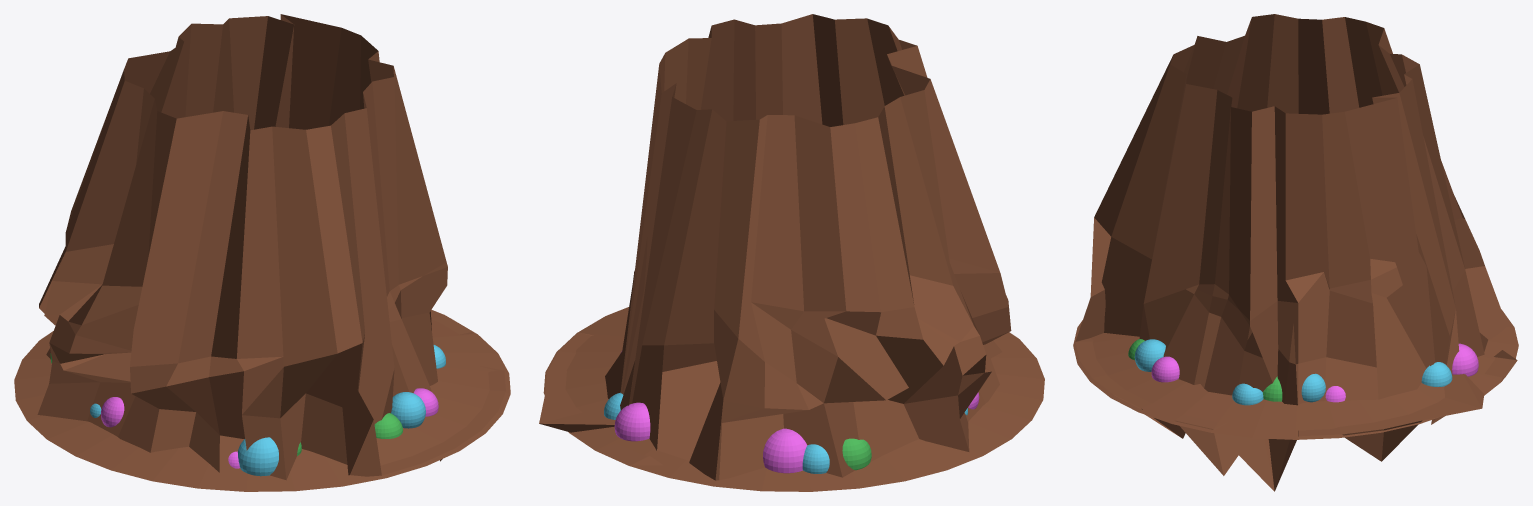
File: arena.fbx
3 renders of one model, left to right at view 1: azimuth 30°, elevation 25°; view 2: azimuth 150°, elevation 25°; view 3: azimuth 270°, elevation 25°, orthographic. The views are drawn at different scales.
Visible parts, largest first — view 1: Cylinder, Sphere.004, Sphere.001, Sphere.014, Sphere.002; view 2: Cylinder, Sphere.018, Sphere.012, Sphere.016, Sphere.017; view 3: Cylinder, Sphere.001, Sphere.012, Sphere, Sphere.010, Sphere.008, Sphere.006.
Boxes of the visible parts, x1=… form: Cylinder: x1=14, y1=14, x2=510, y2=491; Sphere.004: x1=237, y1=437, x2=278, y2=476; Sphere.001: x1=391, y1=392, x2=425, y2=428; Sphere.014: x1=101, y1=397, x2=124, y2=427; Sphere.002: x1=374, y1=413, x2=402, y2=438; Cylinder: x1=539, y1=14, x2=1044, y2=491; Sphere.018: x1=763, y1=428, x2=807, y2=473; Sphere.012: x1=614, y1=402, x2=650, y2=441; Sphere.016: x1=842, y1=438, x2=871, y2=470; Sphere.017: x1=802, y1=444, x2=829, y2=473; Cylinder: x1=1073, y1=14, x2=1518, y2=491; Sphere.001: x1=1134, y1=339, x2=1165, y2=371; Sphere.012: x1=1452, y1=343, x2=1478, y2=376; Sphere: x1=1151, y1=356, x2=1179, y2=382; Sphere.010: x1=1421, y1=362, x2=1452, y2=386; Sphere.008: x1=1301, y1=373, x2=1325, y2=402; Sphere.006: x1=1232, y1=383, x2=1263, y2=405.
Bounding box in the file's own units: 1959 × 1718 × 1959.
